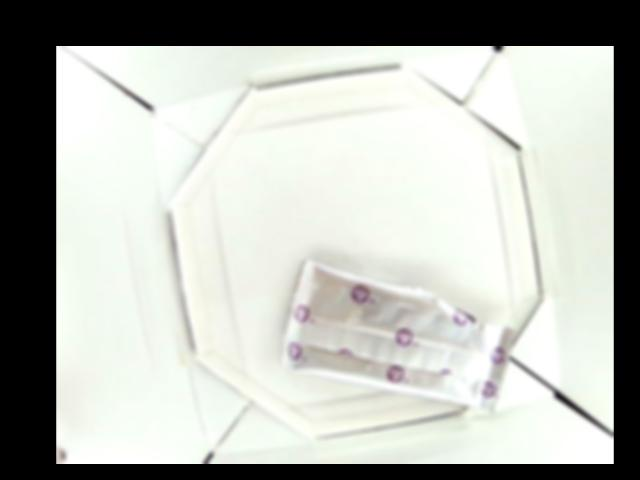Medicine: (281, 261, 516, 413)
